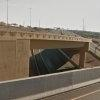Bridge: (5, 13, 94, 68)
